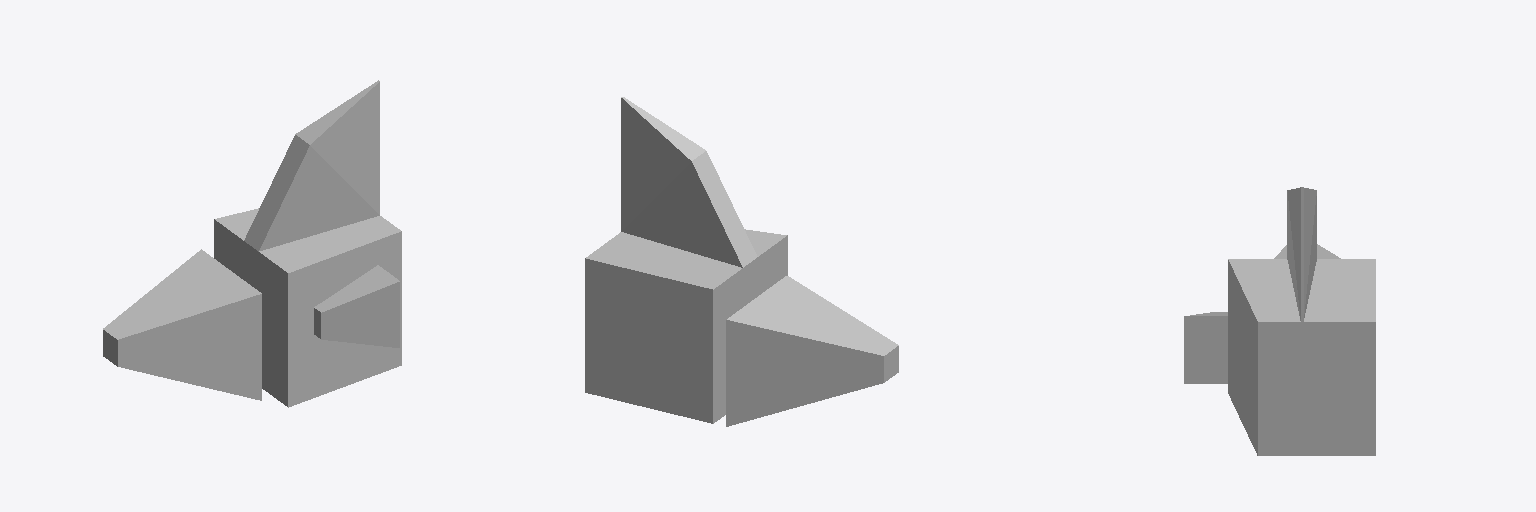
The model's file is thing1-x+z.obj.
3 views of the same model, side by side, from view 1: azimuth 30°, elevation 25°; view 2: azimuth 150°, elevation 25°; view 3: azimuth 270°, elevation 25° (orthographic).
Visible parts, largest first — view 1: Cube; view 2: Cube; view 3: Cube.
Part boxes in pixels (x1,y1,x2,y2): Cube: (103,80,401,407); Cube: (585,97,898,426); Cube: (1184,187,1375,455).
Bounding box in the file's own units: 1.05 × 1 × 0.65.